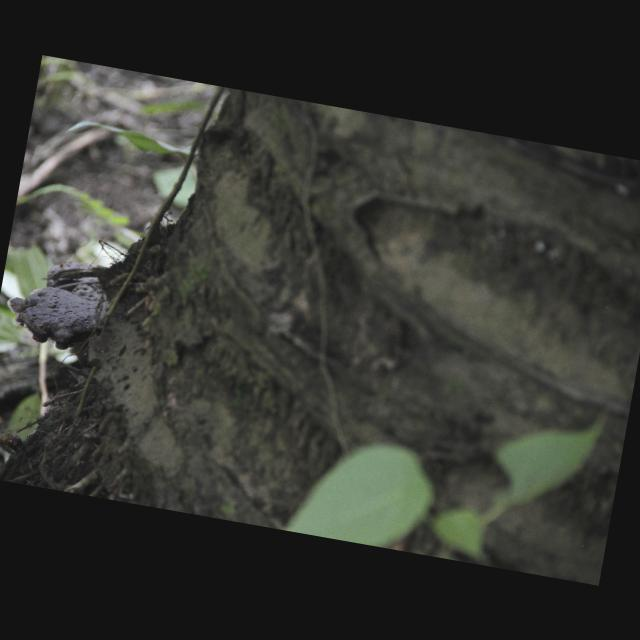ganoderma: (1, 279, 108, 357)
